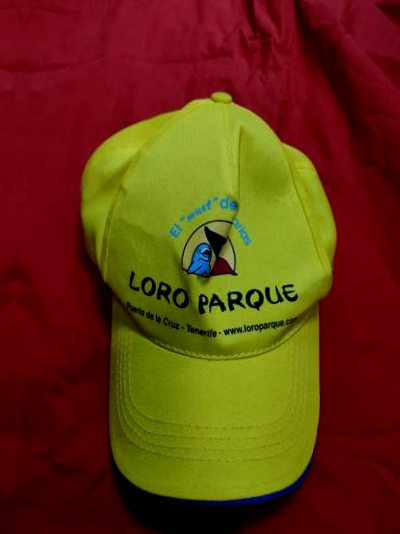Hat: (65, 58, 368, 522)
